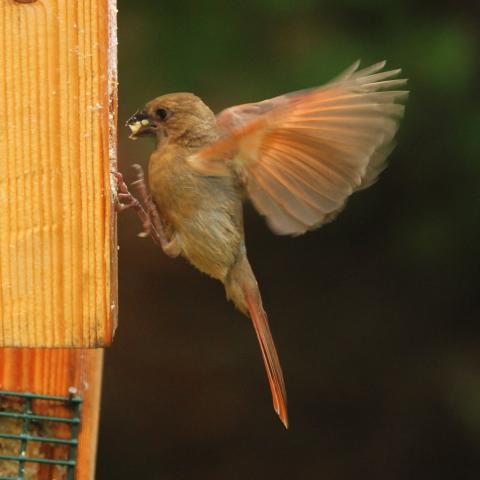bird: (119, 56, 411, 430)
